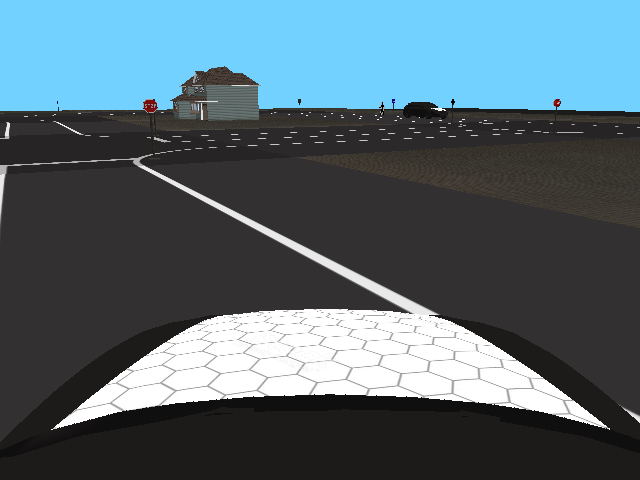stop: (143, 99, 158, 114)
